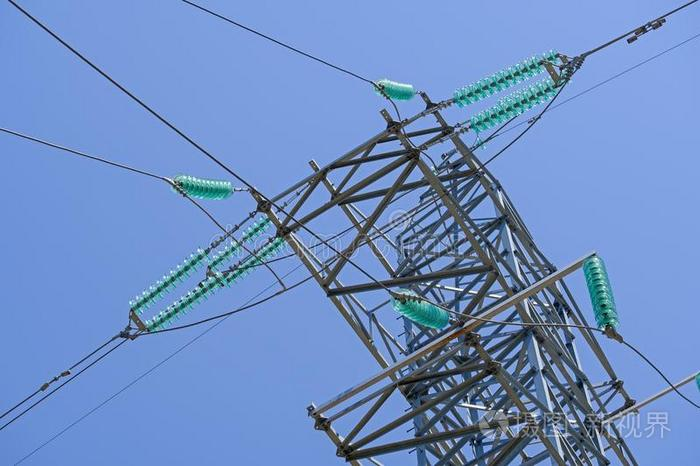insulator: (457, 52, 569, 127), (127, 249, 225, 334), (218, 218, 285, 285), (586, 256, 620, 329), (392, 291, 451, 329), (174, 172, 231, 198), (375, 80, 415, 99)
